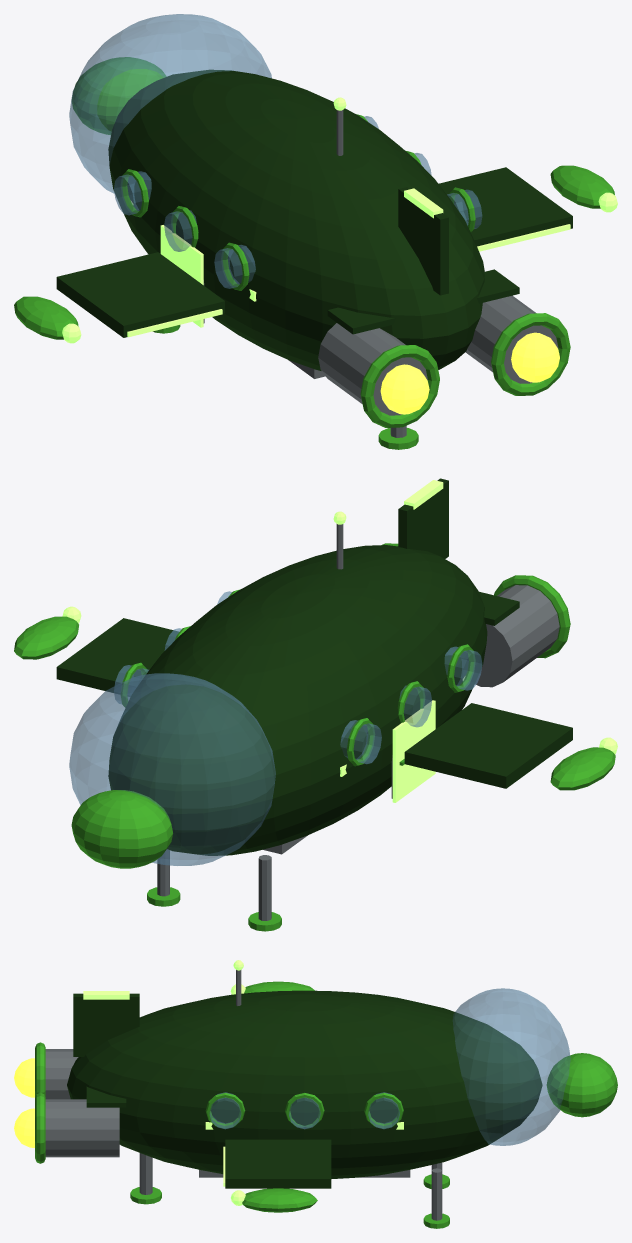
File: shuttle.fbx
The picture shows the model from 3 angles, top to bottom: view 1: azimuth 30°, elevation 25°; view 2: azimuth 150°, elevation 25°; view 3: azimuth 270°, elevation 25°; orthographic projection. The views are drawn at different scales.
Visible parts, largest first — view 1: Shuttle_Body, Shuttle_Cockpit, Shuttle_Wing_L, Shuttle_Wing_R, Shuttle_Engine_L, Shuttle_Nose, Shuttle_TailFin, Shuttle_Engine_R, Shuttle_Nozzle_R, Shuttle_Nozzle_L, Shuttle_ThrusterGlow_L, Shuttle_ThrusterGlow_R (+14 smaller); view 2: Shuttle_Body, Shuttle_Cockpit, Shuttle_Wing_L, Shuttle_Nose, Shuttle_Engine_L, Shuttle_Wing_R, Shuttle_TailFin, Shuttle_DoorFrame, Shuttle_WingTip_L, Shuttle_WingTip_R, Shuttle_Nozzle_L, Shuttle_Window_L_0 (+6 smaller); view 3: Shuttle_Body, Shuttle_Cockpit, Shuttle_Wing_R, Shuttle_Engine_R, Shuttle_Nose, Shuttle_TailFin, Shuttle_WingTip_R, Shuttle_Engine_L, Shuttle_Window_R_2, Shuttle_Window_R_0, Shuttle_Window_R_1, Shuttle_Nozzle_R (+13 smaller).
Part boxes in pixels (x1,y1,x2,y2): Shuttle_Body: [108, 69, 484, 370]; Shuttle_Cockpit: [69, 14, 271, 193]; Shuttle_Wing_L: [56, 252, 224, 337]; Shuttle_Wing_R: [439, 167, 572, 246]; Shuttle_Engine_L: [318, 323, 427, 415]; Shuttle_Nose: [71, 57, 166, 134]; Shuttle_TailFin: [398, 187, 448, 295]; Shuttle_Engine_R: [465, 295, 558, 383]; Shuttle_Nozzle_R: [491, 313, 570, 395]; Shuttle_Nozzle_L: [360, 345, 439, 427]; Shuttle_ThrusterGlow_L: [380, 364, 429, 414]; Shuttle_ThrusterGlow_R: [511, 332, 559, 382]; Shuttle_Body: [108, 545, 487, 855]; Shuttle_Cockpit: [69, 673, 275, 865]; Shuttle_Wing_L: [404, 703, 572, 788]; Shuttle_Nose: [71, 790, 172, 868]; Shuttle_Engine_L: [475, 585, 559, 687]; Shuttle_Wing_R: [56, 618, 178, 692]; Shuttle_TailFin: [398, 478, 448, 558]; Shuttle_DoorFrame: [392, 700, 435, 802]; Shuttle_WingTip_L: [550, 747, 615, 790]; Shuttle_WingTip_R: [14, 616, 78, 659]; Shuttle_Nozzle_L: [494, 575, 570, 658]; Shuttle_Window_L_0: [340, 720, 381, 763]; Shuttle_Body: [67, 990, 542, 1178]; Shuttle_Cockpit: [453, 988, 570, 1145]; Shuttle_Wing_R: [225, 1139, 331, 1188]; Shuttle_Engine_R: [45, 1099, 119, 1157]; Shuttle_Nose: [546, 1053, 617, 1117]; Shuttle_TailFin: [73, 993, 139, 1056]; Shuttle_WingTip_R: [242, 1188, 317, 1212]; Shuttle_Engine_L: [45, 1049, 78, 1099]; Shuttle_Window_R_2: [209, 1092, 241, 1129]; Shuttle_Window_R_0: [368, 1092, 399, 1128]; Shuttle_Window_R_1: [289, 1097, 320, 1129]; Shuttle_Nozzle_R: [35, 1092, 45, 1163].
Size of the model in its own units: 4 by 2.03 by 4.57.
